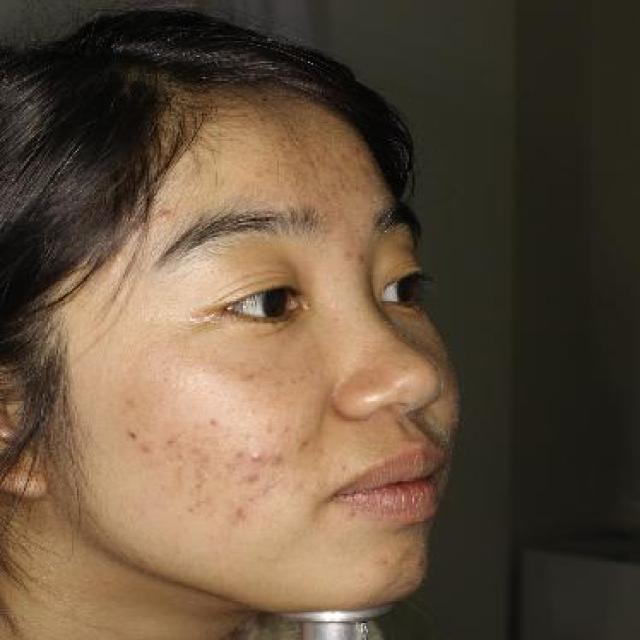dark spot: (134, 437, 158, 457), (241, 468, 267, 483), (204, 414, 222, 429)
pustules: (247, 448, 266, 463)
